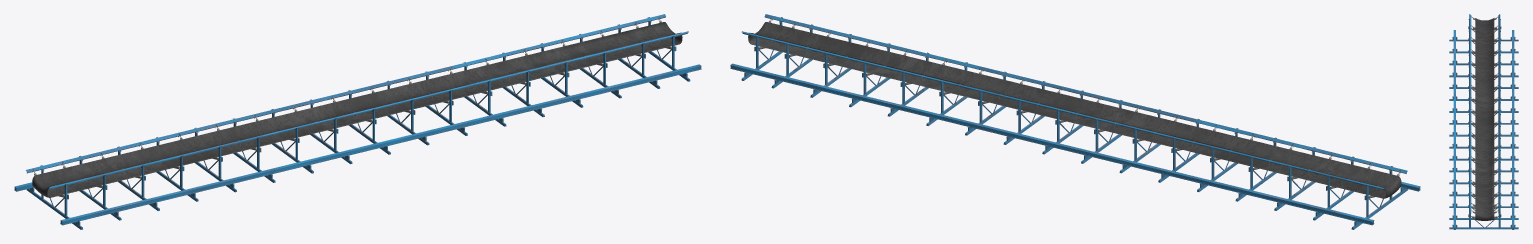
The model's file is 传送带.glb.
3 views of the same model, side by side, from view 1: azimuth 30°, elevation 25°; view 2: azimuth 150°, elevation 25°; view 3: azimuth 270°, elevation 25° (orthographic). The views are drawn at different scales.
Parts seen in each view (by area): view 1: chuansongdai; view 2: chuansongdai; view 3: chuansongdai.
Part boxes in pixels (x1,y1,x2,y2): chuansongdai: (14, 14, 701, 229); chuansongdai: (730, 14, 1420, 229); chuansongdai: (1449, 14, 1518, 229).
Bounding box in the file's own units: 0.0542 × 0.00282 × 0.008.
Materials: 1 (1 with a texture image).
